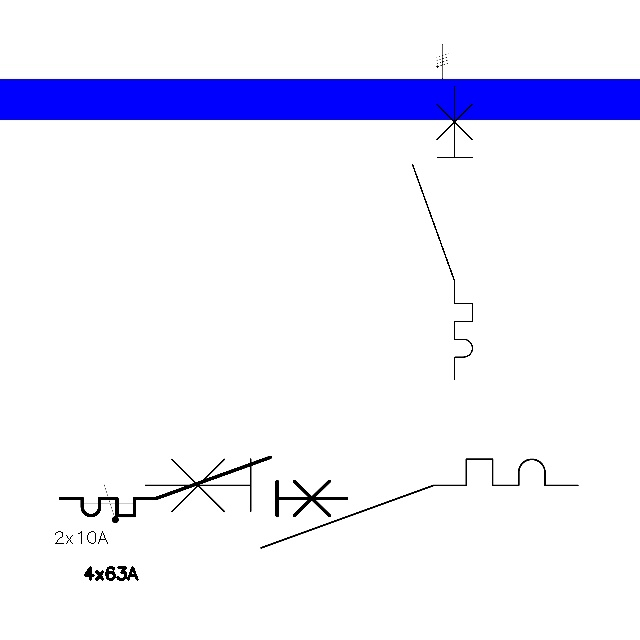interruptor_termomagnetico: (134, 448, 589, 559), (405, 78, 480, 386), (53, 450, 354, 523)
